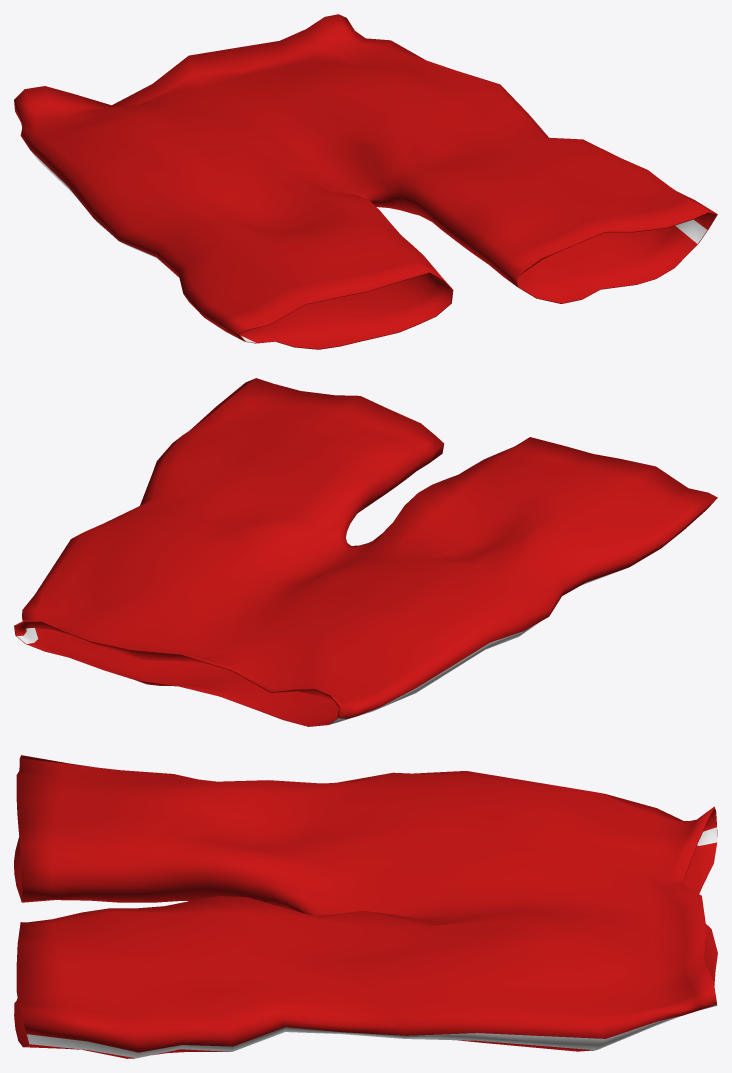
The model's file is Pantalon corto.fbx.
3 views of the same model, one above another, from view 1: azimuth 30°, elevation 25°; view 2: azimuth 150°, elevation 25°; view 3: azimuth 270°, elevation 25° (orthographic). The views are drawn at different scales.
Parts seen in each view (by area): view 1: Pantalon corto; view 2: Pantalon corto; view 3: Pantalon corto.
Part boxes in pixels (<box>): Pantalon corto: <box>14,14,717,349</box>; Pantalon corto: <box>14,378,717,726</box>; Pantalon corto: <box>14,755,717,1058</box>.
Size of the model in its own units: 35.29 by 4.96 by 38.58.
